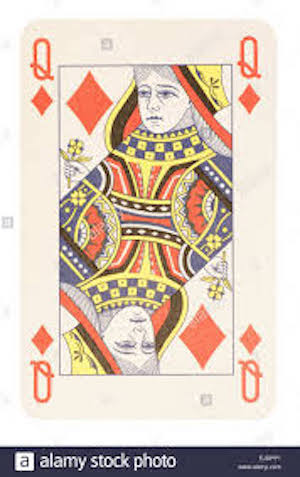QueenOfDiamonds: (12, 14, 285, 431)
